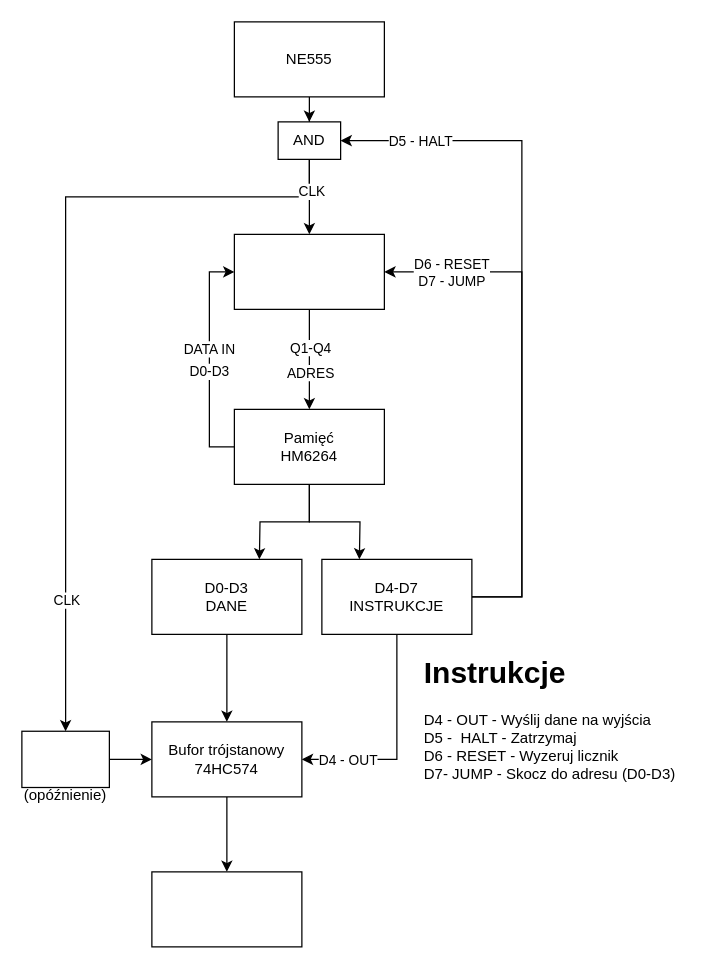
The diagram is 706 pixels wide and 969 high, and some of its shapes have lost their labels. Each missing label, with the centre of its shape:
"Licznik 74HC161" goes at point (308, 271).
"RC + Shmitt 74HC14" goes at point (65, 759).
"Wzmacniacz wyjść ULN2803" goes at point (226, 909).
